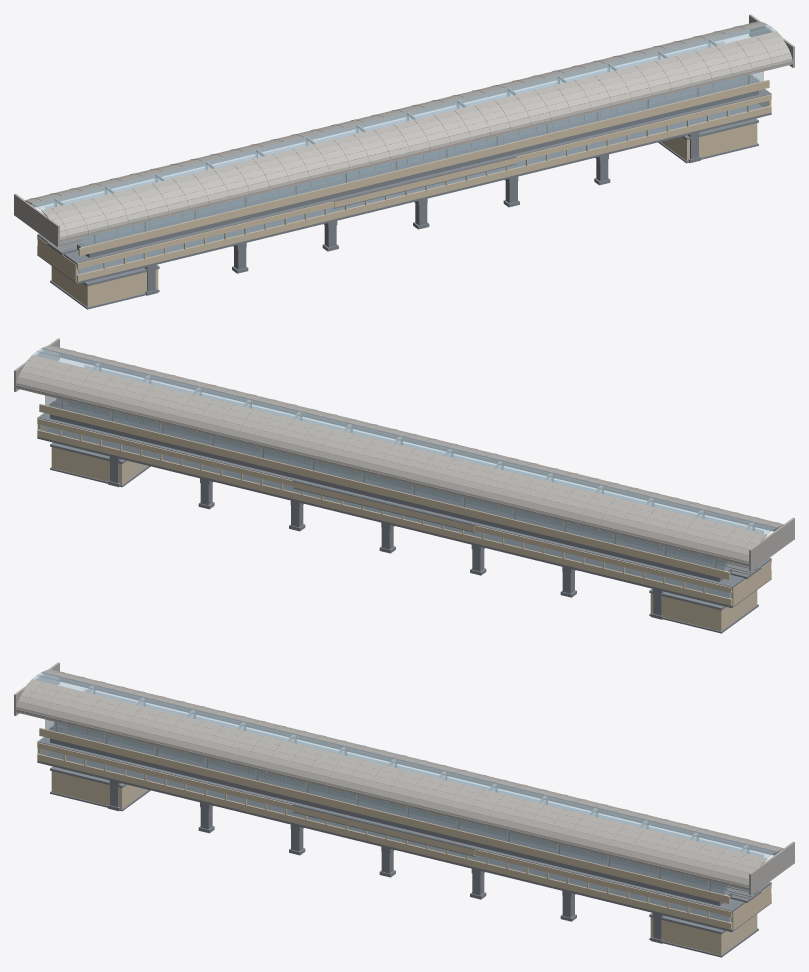
3 renders of one model, top to bottom at view 1: azimuth 30°, elevation 25°; view 2: azimuth 150°, elevation 25°; view 3: azimuth 330°, elevation 25°, orthographic.
Visible parts, largest first — view 1: 535333512_Roof, 535333512_Facade, 535333512_Concrete, 535333512_Glass; view 2: 535333512_Roof, 535333512_Facade, 535333512_Concrete, 535333512_Glass; view 3: 535333512_Roof, 535333512_Facade, 535333512_Concrete, 535333512_Glass.
Boxes of the visible parts, x1,y1,x2,y2 form: 535333512_Roof: (14, 14, 794, 250); 535333512_Facade: (37, 79, 771, 307); 535333512_Concrete: (37, 76, 771, 309); 535333512_Glass: (32, 24, 775, 280); 535333512_Roof: (14, 338, 794, 574); 535333512_Facade: (37, 403, 771, 631); 535333512_Concrete: (37, 400, 771, 633); 535333512_Glass: (33, 348, 776, 619); 535333512_Roof: (14, 662, 794, 898); 535333512_Facade: (37, 727, 771, 955); 535333512_Concrete: (37, 724, 771, 957); 535333512_Glass: (33, 672, 776, 938).
Size of the model in its own units: 147 by 18.49 by 15.23.
